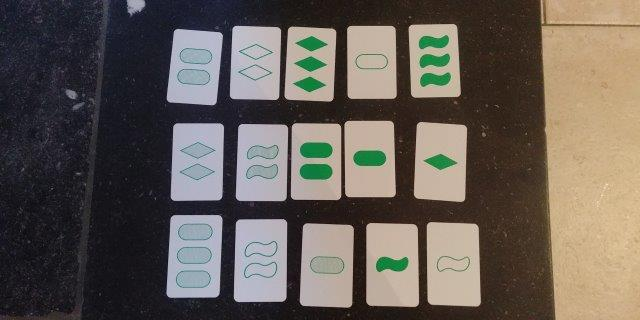1EP: (348, 26, 393, 97)
1EW: (430, 225, 476, 302)
1FD: (417, 127, 463, 196)
1FP: (346, 123, 391, 194)
1FW: (370, 224, 414, 303)
1HP: (305, 225, 348, 304)
2ED: (234, 29, 276, 95)
2EW: (236, 220, 284, 299)
2FP: (294, 125, 337, 195)
2HD: (174, 123, 218, 198)
2HP: (173, 31, 213, 102)
2HW: (239, 126, 283, 198)
3FD: (289, 28, 329, 99)
3FW: (411, 26, 456, 94)
3HP: (171, 216, 217, 295)
